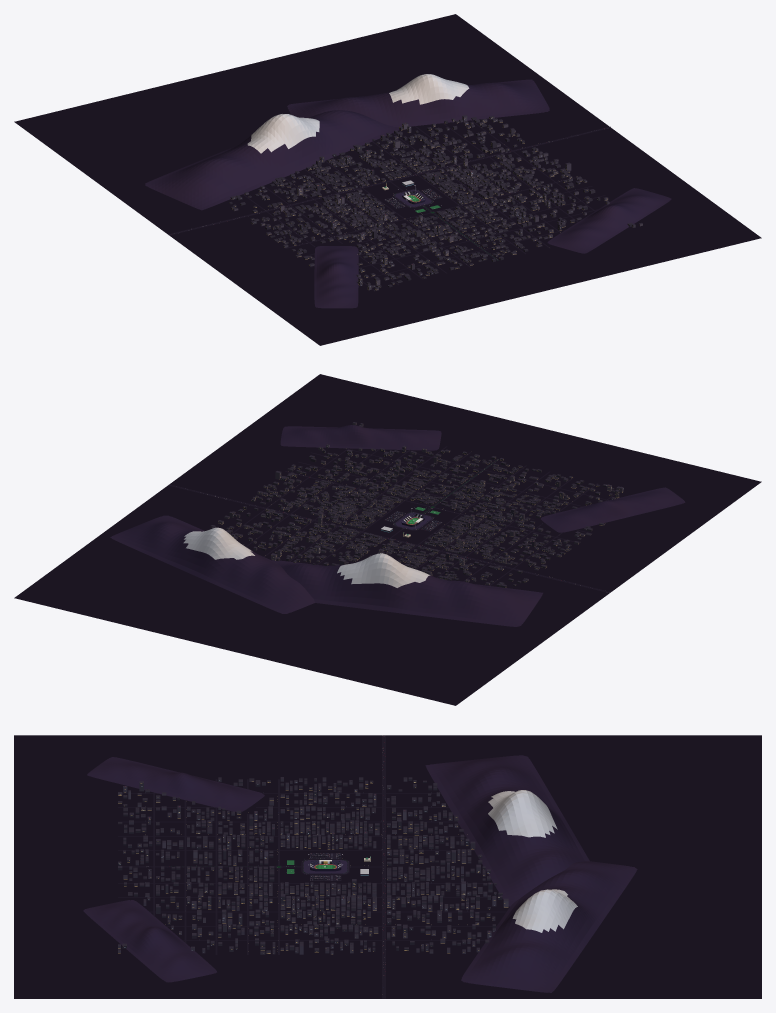
Rendered from 8-mai-1945.glb.
The picture shows the model from 3 angles, top to bottom: view 1: azimuth 30°, elevation 25°; view 2: azimuth 150°, elevation 25°; view 3: azimuth 270°, elevation 25°; orthographic projection. The views are drawn at different scales.
Parts seen in each view (by area): view 1: Env_Terrain, Env_Hills, Env_City, Env_Roads; view 2: Env_Terrain, Env_Hills, Env_City, Env_Roads; view 3: Env_Terrain, Env_Hills, Env_City, Env_Roads.
Boxes of the visible parts, bbox=[...] form: Env_Terrain: bbox=[14, 14, 761, 345]; Env_Hills: bbox=[145, 74, 671, 308]; Env_City: bbox=[229, 115, 642, 290]; Env_Roads: bbox=[168, 120, 610, 290]; Env_Terrain: bbox=[14, 374, 761, 705]; Env_Hills: bbox=[110, 425, 685, 626]; Env_City: bbox=[210, 422, 623, 587]; Env_Roads: bbox=[168, 446, 614, 593]; Env_Terrain: bbox=[14, 735, 761, 998]; Env_Hills: bbox=[83, 755, 637, 992]; Env_City: bbox=[118, 777, 508, 954]; Env_Roads: bbox=[118, 735, 506, 998].
Size of the model in its own units: 4801 by 388 by 5760.
